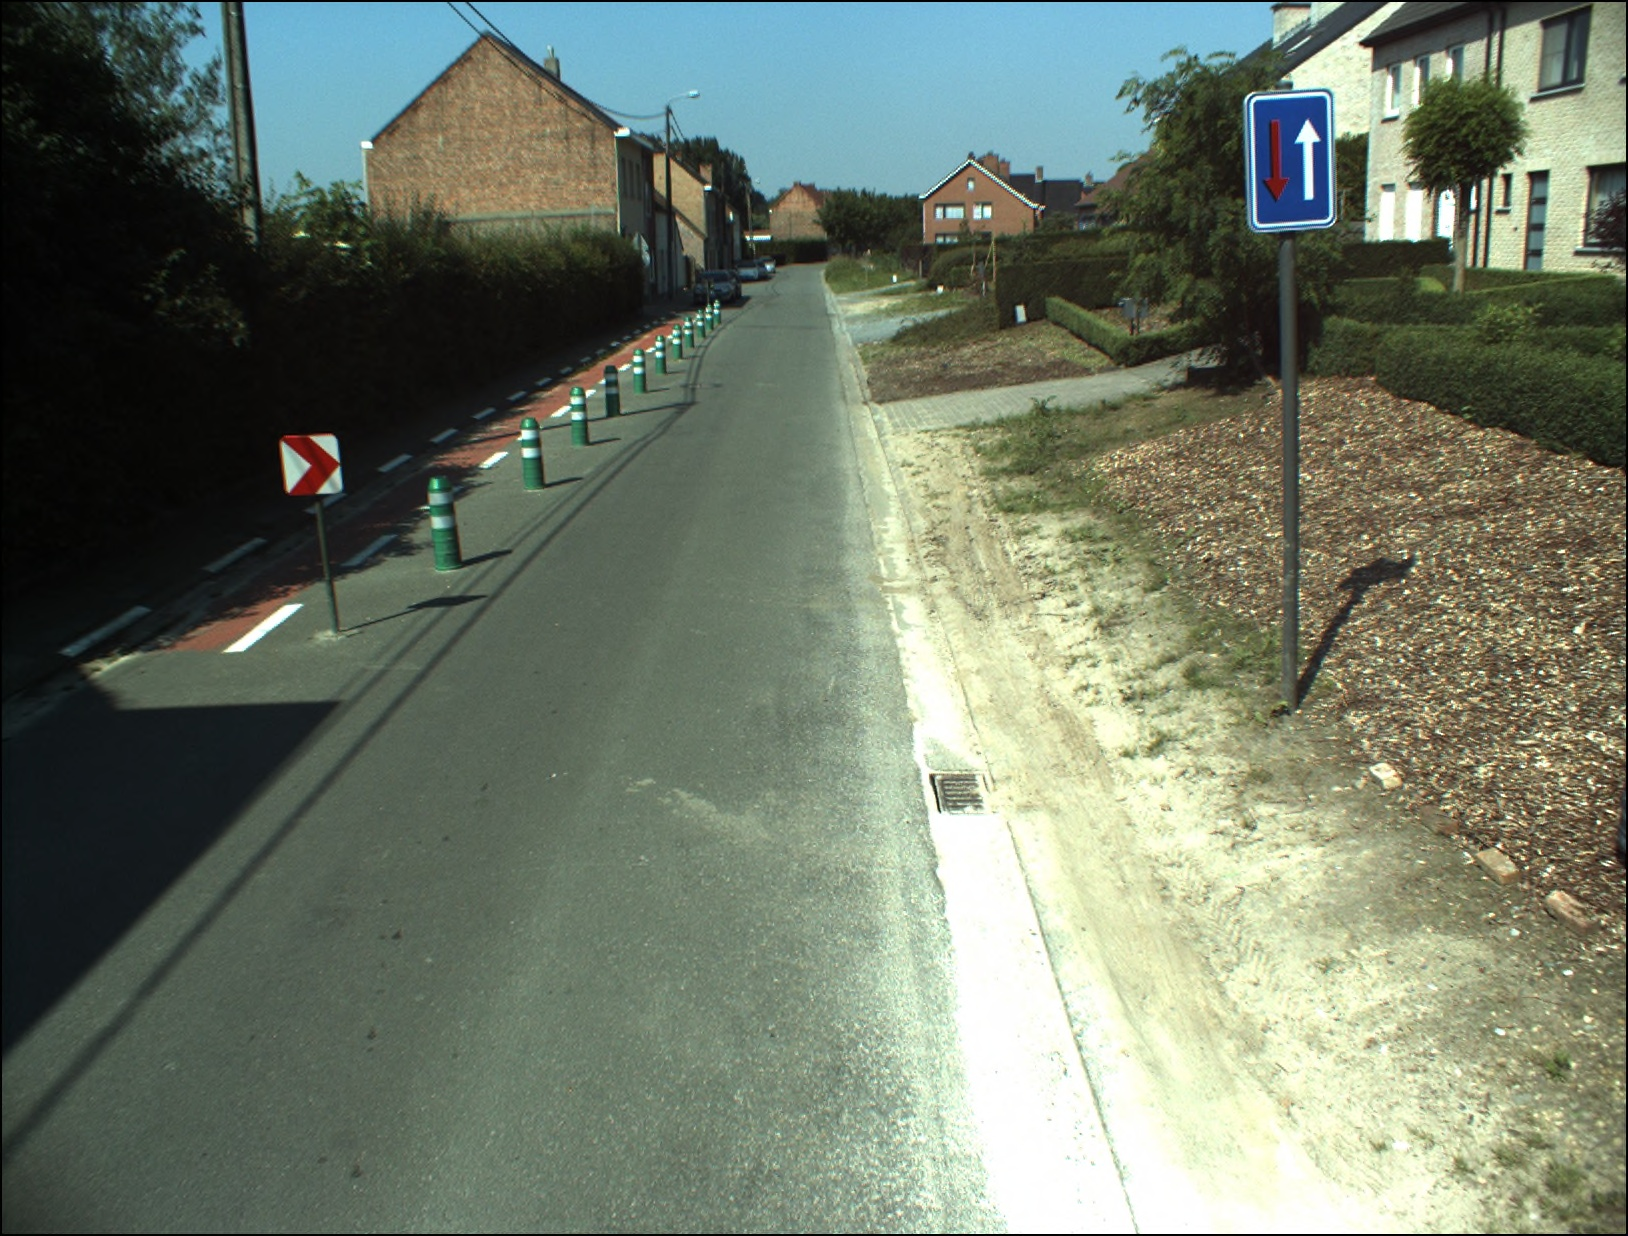roadnarrow1: (1244, 90, 1340, 226)
